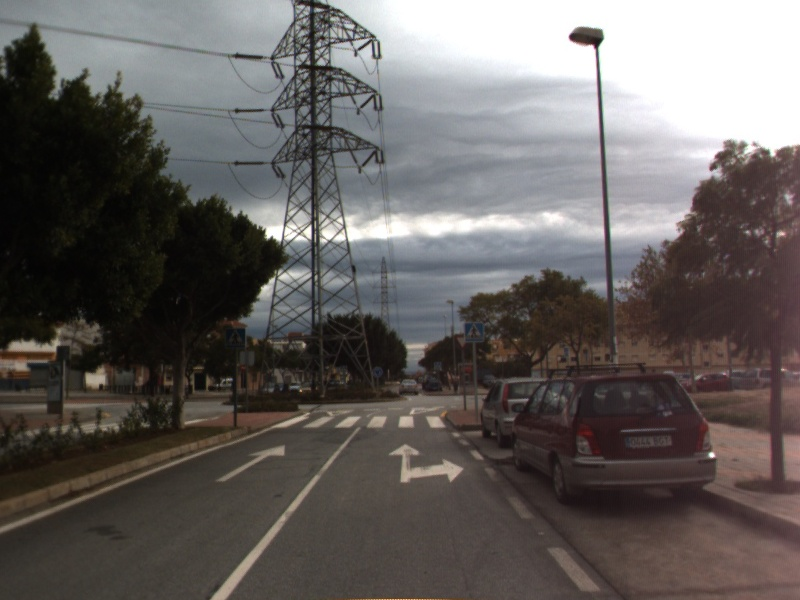STRAIGHT: (214, 442, 287, 483)
STRAIGHT_RIGHT: (386, 441, 466, 485)
